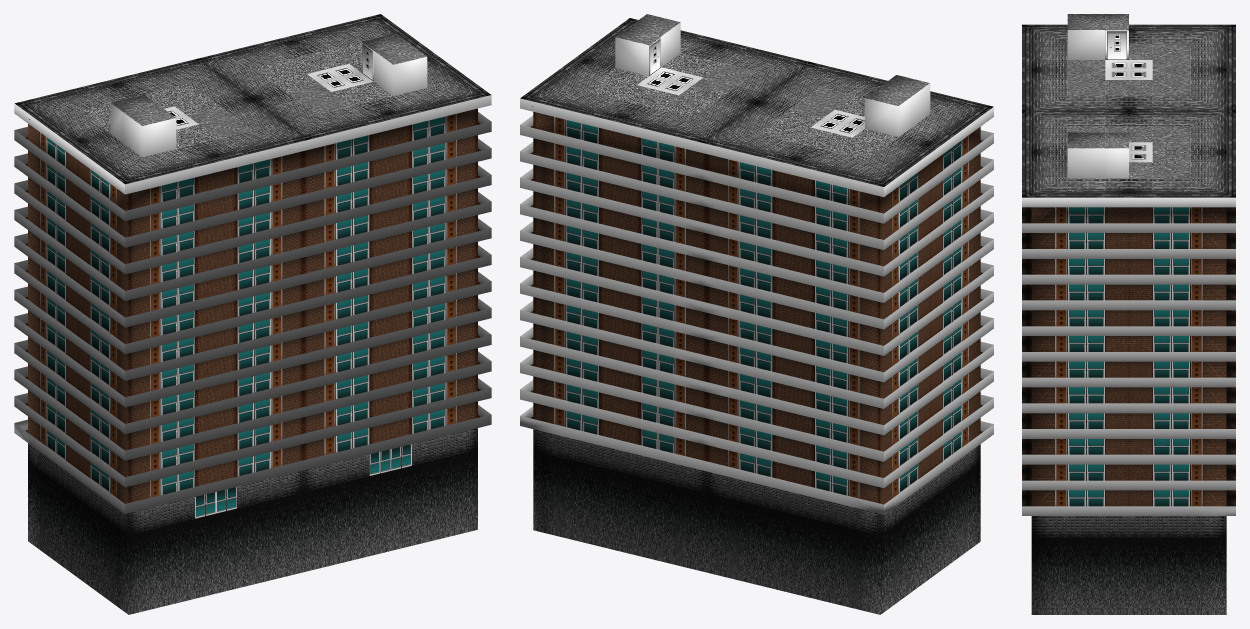
The model's file is gallerijflat_mod1_2a.fbx.
The picture shows the model from 3 angles, left to right: view 1: azimuth 30°, elevation 25°; view 2: azimuth 150°, elevation 25°; view 3: azimuth 270°, elevation 25°; orthographic projection. The views are drawn at different scales.
Parts seen in each view (by area): view 1: gallerijflat_mod1_2a; view 2: gallerijflat_mod1_2a; view 3: gallerijflat_mod1_2a.
Boxes of the visible parts, x1,y1,x2,y2 form: gallerijflat_mod1_2a: (14,14,491,614); gallerijflat_mod1_2a: (520,14,993,614); gallerijflat_mod1_2a: (1022,14,1235,614).
Size of the model in its own units: 4277 by 5212 by 2239.
